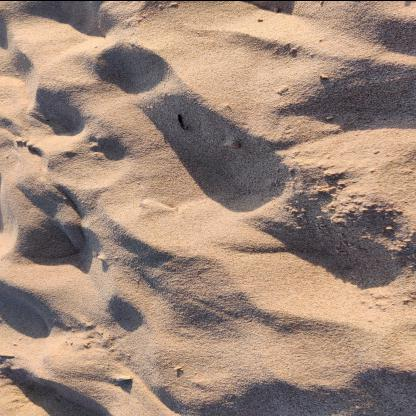plastik: (140, 198, 176, 210)
